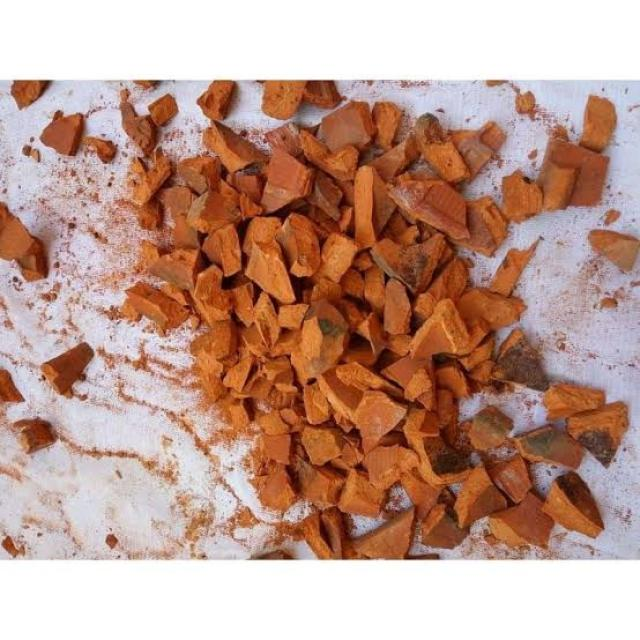Pecahan Agregat: (532, 113, 618, 215), (392, 174, 498, 256), (124, 275, 201, 358), (399, 105, 487, 176), (342, 161, 408, 252), (560, 390, 623, 478), (542, 476, 618, 548), (488, 166, 559, 240), (2, 201, 55, 297), (477, 501, 559, 562), (404, 426, 468, 504), (286, 298, 346, 378), (32, 102, 103, 168), (456, 282, 538, 338), (317, 103, 386, 169), (403, 304, 477, 364), (236, 246, 304, 310), (33, 338, 110, 393), (508, 428, 587, 481), (284, 397, 337, 475), (462, 396, 527, 459), (202, 112, 264, 174), (134, 151, 196, 213), (344, 379, 402, 444), (578, 222, 640, 280), (14, 415, 83, 467), (352, 511, 421, 563), (291, 507, 360, 559), (414, 499, 482, 551), (203, 218, 258, 280), (275, 212, 324, 278), (350, 441, 404, 499), (539, 372, 594, 428), (256, 418, 302, 481), (264, 154, 304, 220), (255, 86, 314, 129), (192, 84, 244, 127), (187, 190, 235, 236), (361, 302, 397, 361), (223, 356, 276, 396), (316, 237, 360, 280), (150, 247, 200, 280), (142, 92, 183, 130)
